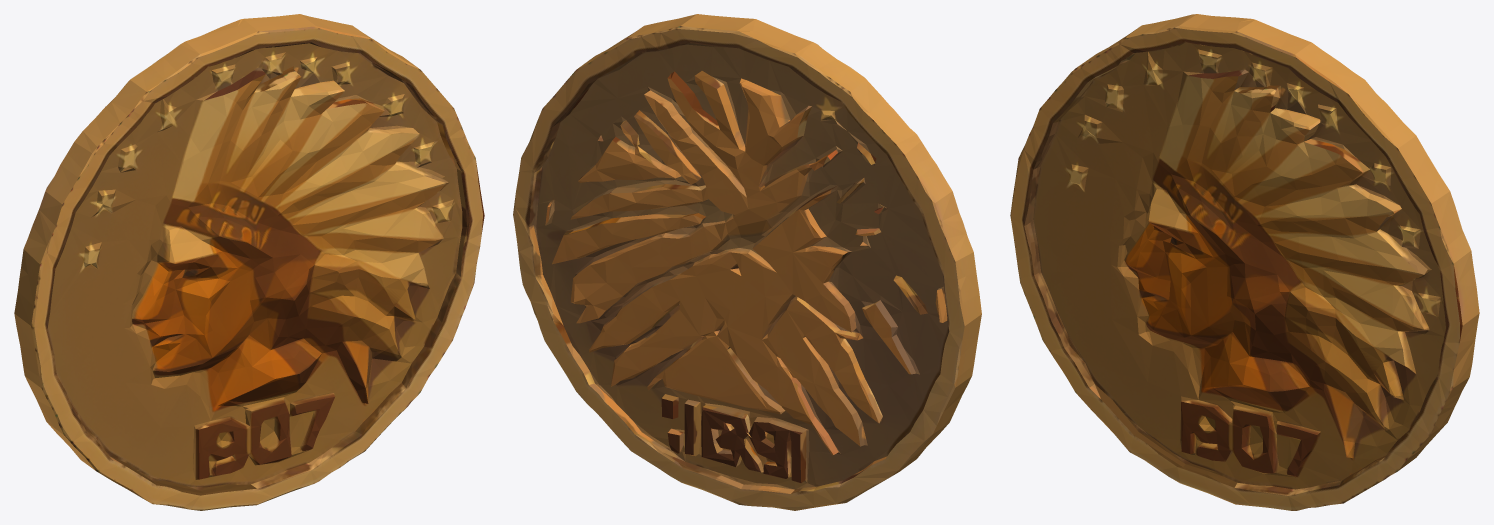
The model's file is indian-head-ten-dollars-coin.glb.
3 renders of one model, left to right at view 1: azimuth 30°, elevation 25°; view 2: azimuth 150°, elevation 25°; view 3: azimuth 330°, elevation 25°, orthographic.
Visible parts, largest first — view 1: tmpb_t3097w.ply; view 2: tmpb_t3097w.ply; view 3: tmpb_t3097w.ply.
Part boxes in pixels (x1=…): tmpb_t3097w.ply: x1=14, y1=14, x2=484, y2=510; tmpb_t3097w.ply: x1=513, y1=14, x2=981, y2=510; tmpb_t3097w.ply: x1=1010, y1=14, x2=1479, y2=510.
Size of the model in its own units: 1.99 by 1.99 by 0.2463.
1 material, 1 textured.
